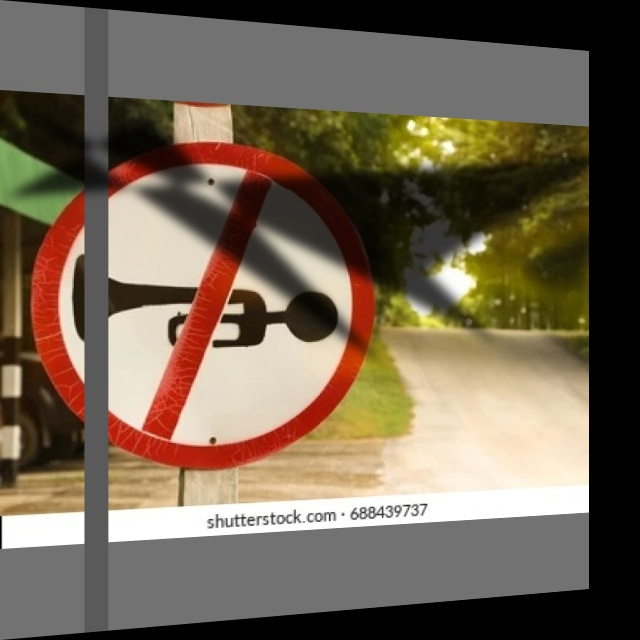Horn_Prohibited: (48, 150, 364, 456)
